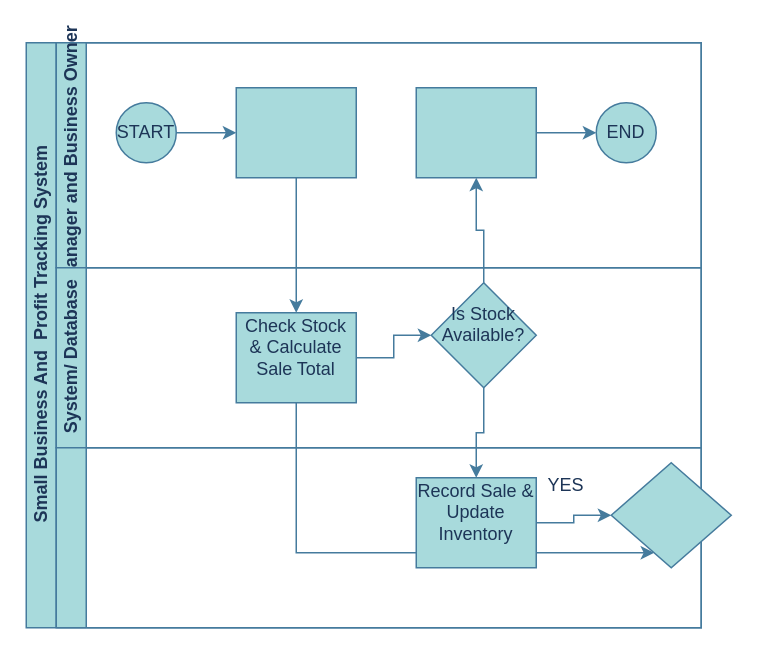
The diagram is 758 pixels wide and 654 high, and some of its shapes have lost their labels. The box of each missing label's shape, as (x1, y1, x2, y2) in pixels:
Calculate Profit & Generate Reports: (415, 86, 536, 178)
Is Order Valid?: (610, 461, 731, 568)
Sale Clerk: (55, 446, 701, 628)
Select Products & Enter Quantity: (235, 86, 356, 178)
